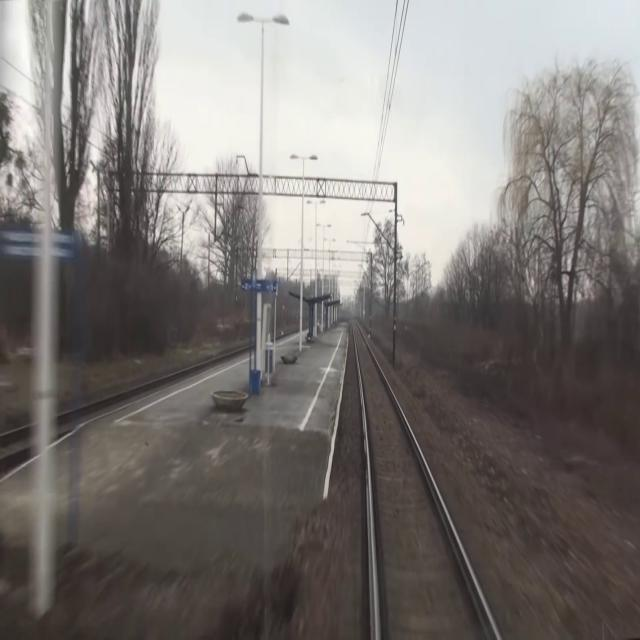rail-track: (353, 319, 496, 639), (57, 349, 248, 430), (0, 430, 28, 455)
